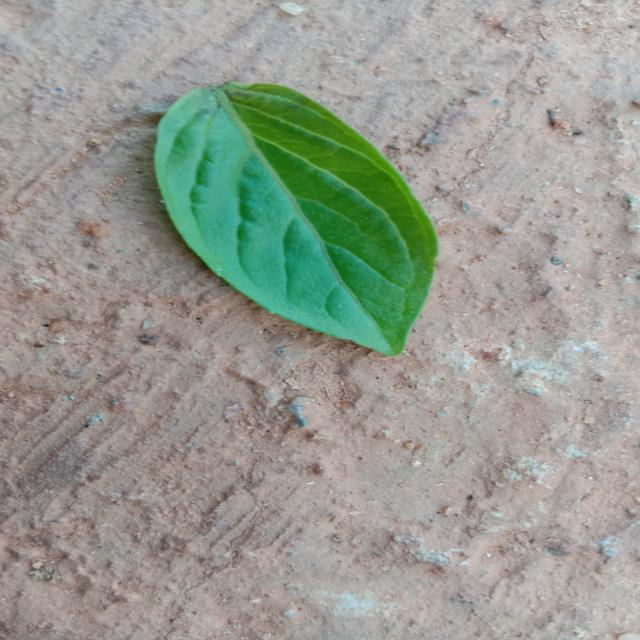kamakasturi: (155, 82, 438, 355)
